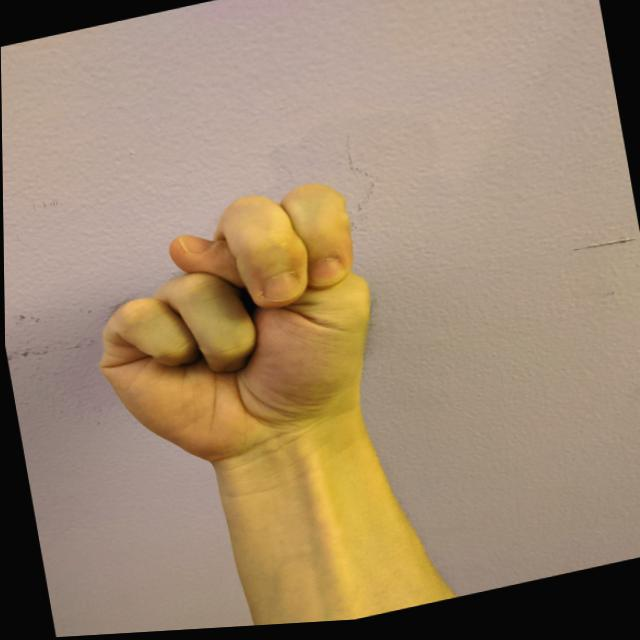N: (69, 170, 399, 495)
